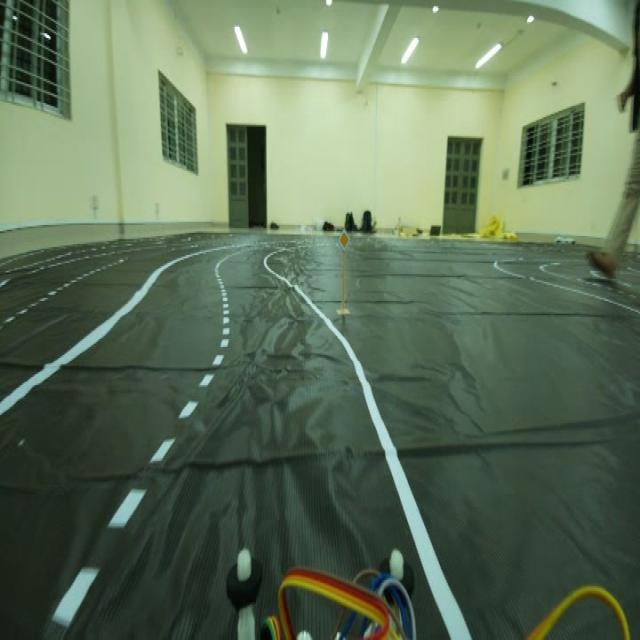priority: (338, 229, 351, 253)
